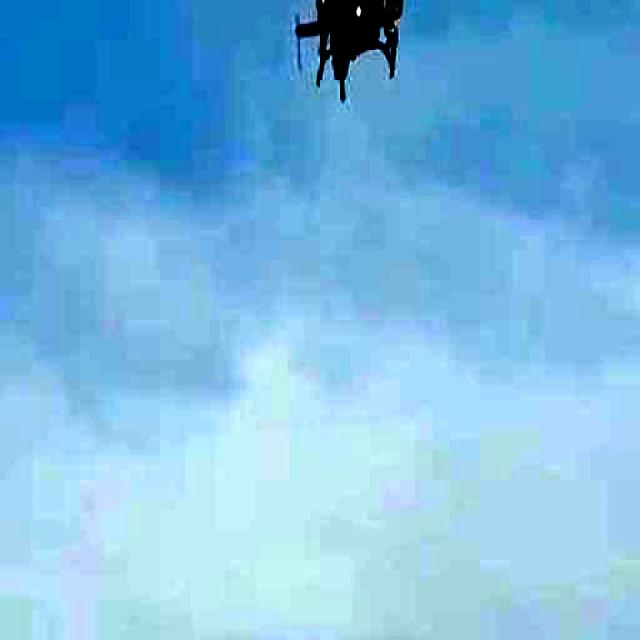drone: (229, 0, 495, 88)
